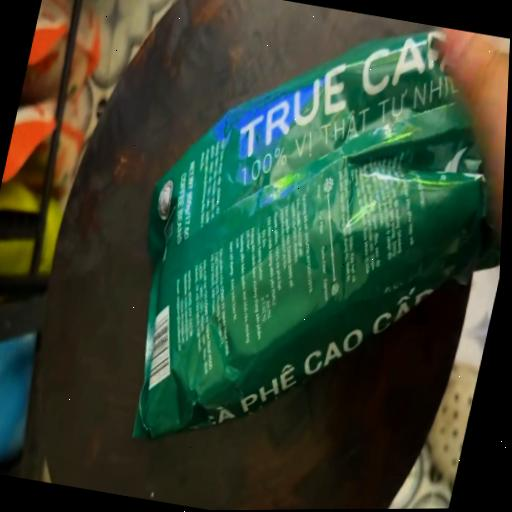cafe_xay: (133, 31, 499, 437)
